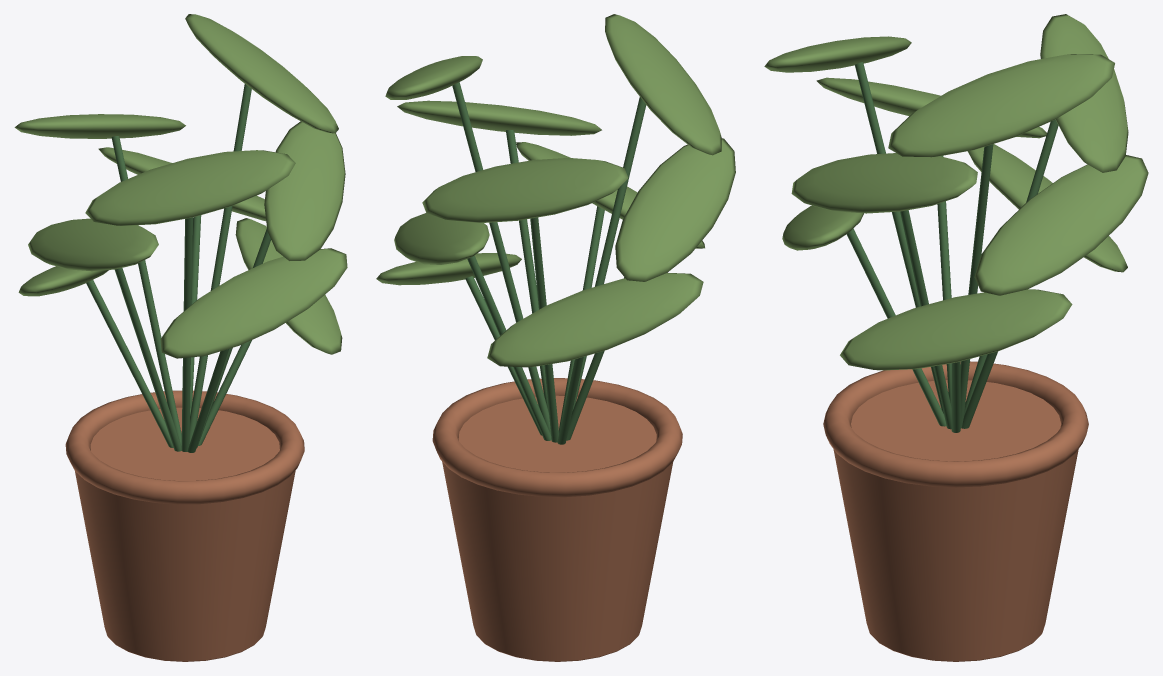
Rendered from bush_01.glb.
3 views of the same model, side by side, from view 1: azimuth 30°, elevation 25°; view 2: azimuth 150°, elevation 25°; view 3: azimuth 270°, elevation 25° (orthographic). The views are drawn at different scales.
Parts seen in each view (by area): view 1: plant; view 2: plant; view 3: plant.
Boxes of the visible parts, box(x1,y1,x2,y2) form: plant: box(14, 14, 347, 661); plant: box(376, 14, 735, 661); plant: box(764, 14, 1148, 661).
Size of the model in its own units: 0.6929 by 1.21 by 0.6941.
